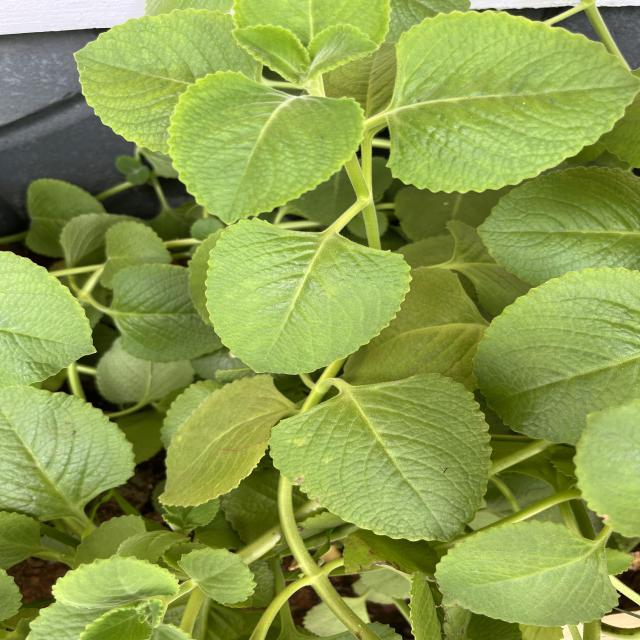Plectranthus barbatus: (385, 8, 640, 196), (267, 370, 493, 544), (204, 216, 414, 376), (165, 69, 369, 226), (471, 264, 640, 449), (71, 6, 233, 157), (433, 518, 622, 628), (474, 163, 640, 286), (0, 385, 137, 519), (156, 372, 284, 508), (110, 262, 226, 364), (51, 553, 180, 610), (176, 546, 258, 605)
